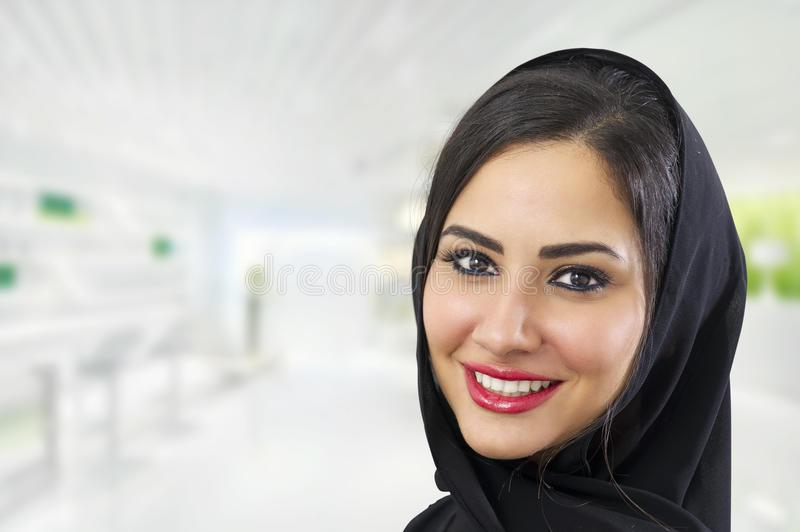No Mask: (410, 111, 697, 506)
